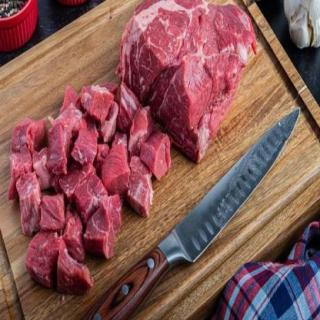Daging Sapi: (13, 87, 172, 283), (120, 2, 257, 167), (27, 231, 67, 285), (85, 202, 117, 259), (141, 131, 173, 184), (18, 175, 45, 236), (58, 248, 92, 292), (104, 145, 131, 196), (10, 151, 34, 206), (130, 158, 152, 217), (117, 83, 140, 137), (82, 85, 114, 122), (49, 122, 71, 175), (13, 121, 47, 152), (42, 196, 66, 236), (74, 130, 97, 167)
